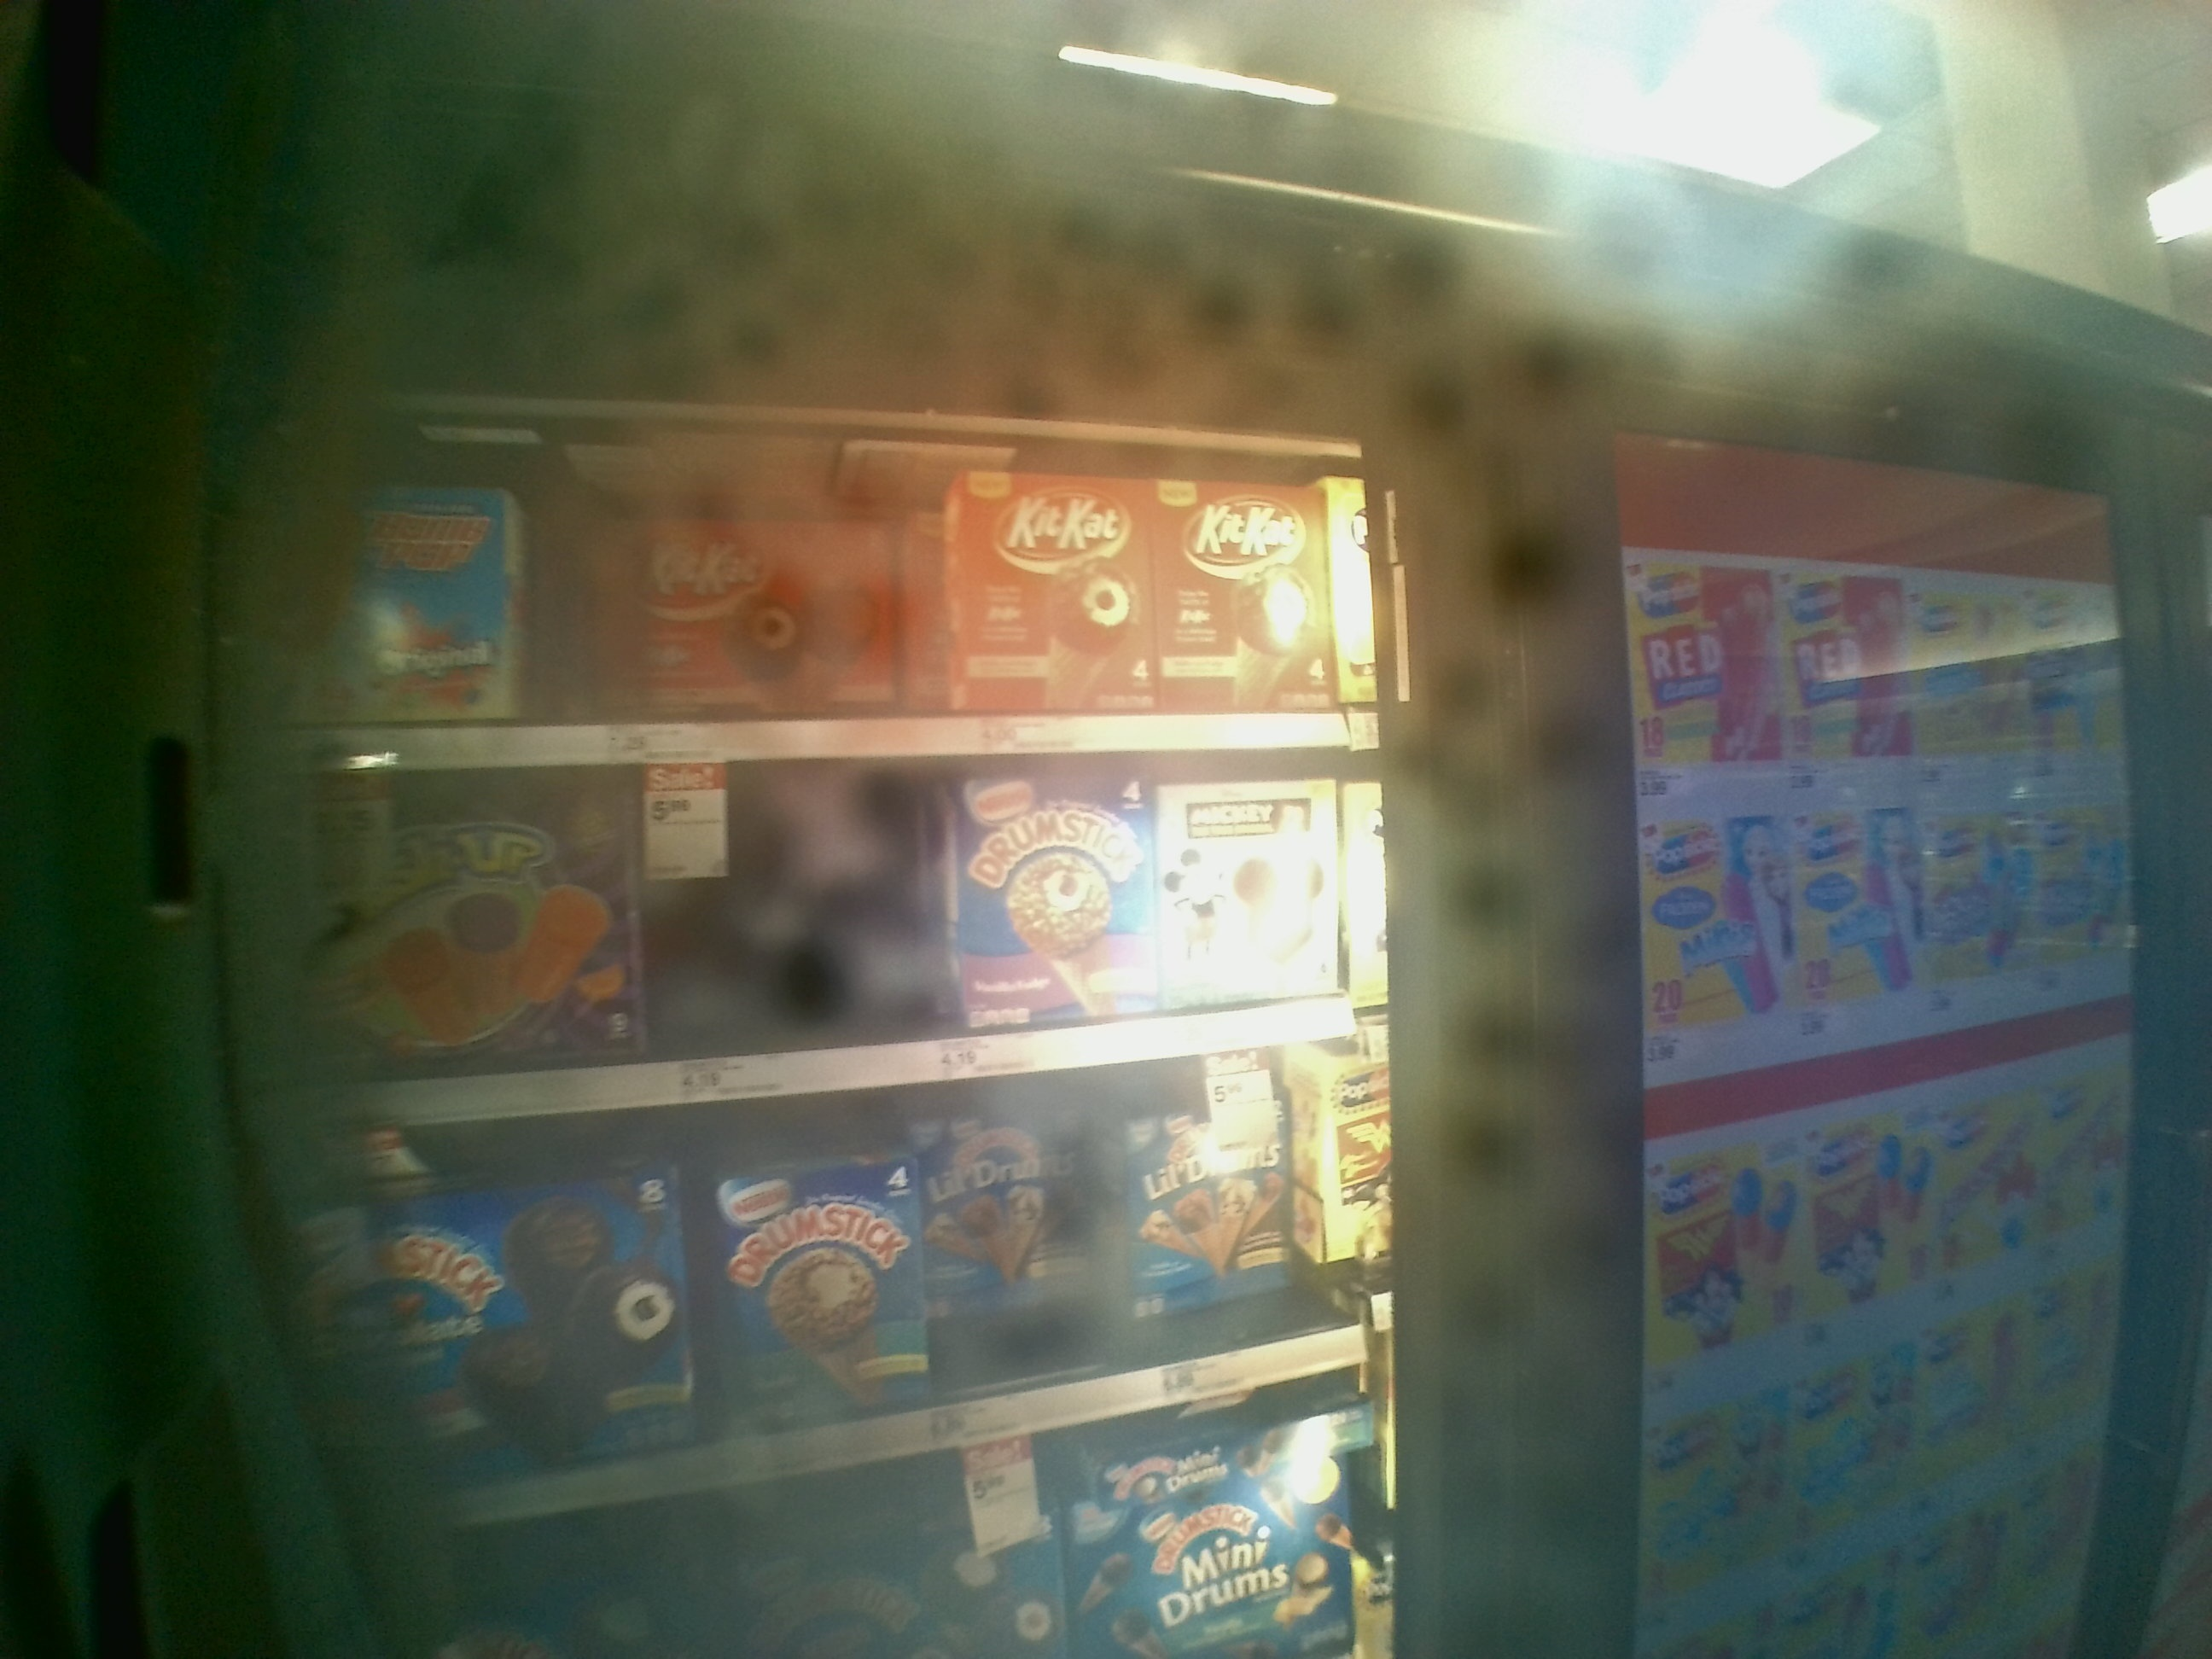shelf: (246, 744, 1404, 1145), (240, 410, 1390, 763)
